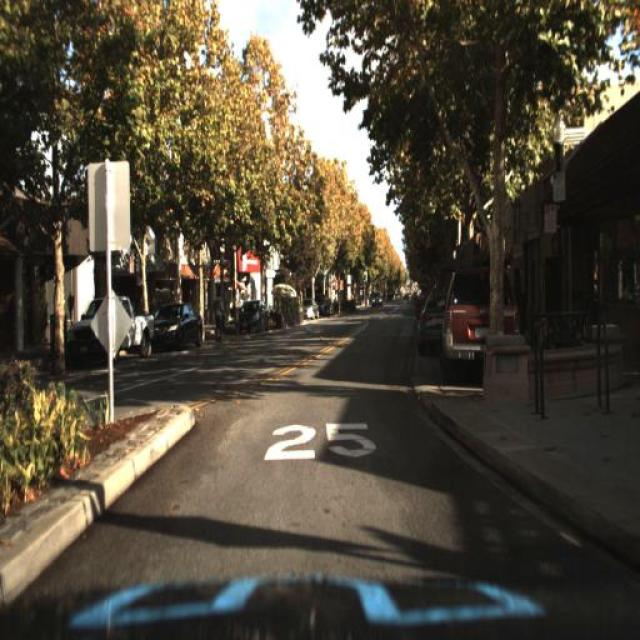car: (439, 264, 520, 388), (61, 293, 158, 361), (150, 304, 206, 354), (416, 280, 448, 360), (231, 300, 270, 340), (298, 292, 323, 317), (368, 286, 384, 316)
trafficLight: (211, 290, 224, 349)
